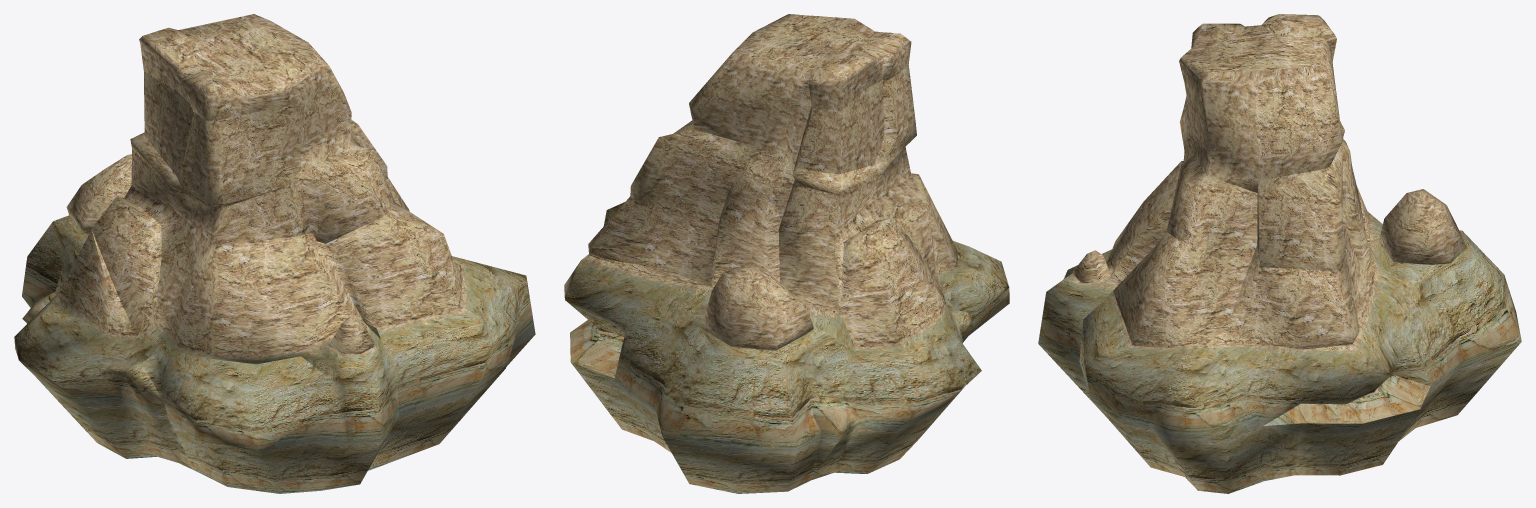
Rendered from dsrt_endr_column_l1.fbx.
3 views of the same model, side by side, from view 1: azimuth 30°, elevation 25°; view 2: azimuth 150°, elevation 25°; view 3: azimuth 270°, elevation 25° (orthographic). The views are drawn at different scales.
Visible parts, largest first — view 1: mesh_node; view 2: mesh_node; view 3: mesh_node.
Part boxes in pixels (<box>): mesh_node: <box>14,14,535,493</box>; mesh_node: <box>564,14,1009,493</box>; mesh_node: <box>1038,14,1521,493</box>.
Bounding box in the file's own units: 27 × 23.26 × 28.07.
2 materials, 2 textured.
